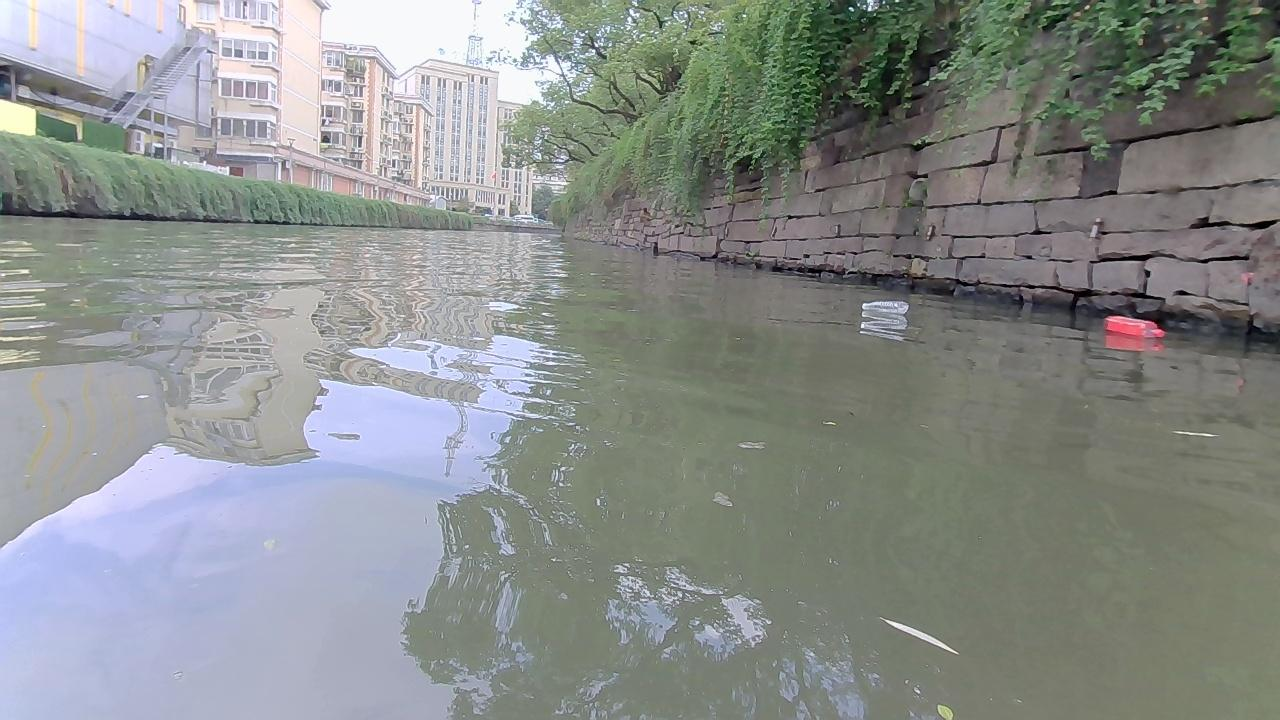bottle: (1103, 313, 1163, 337), (861, 299, 909, 313)
